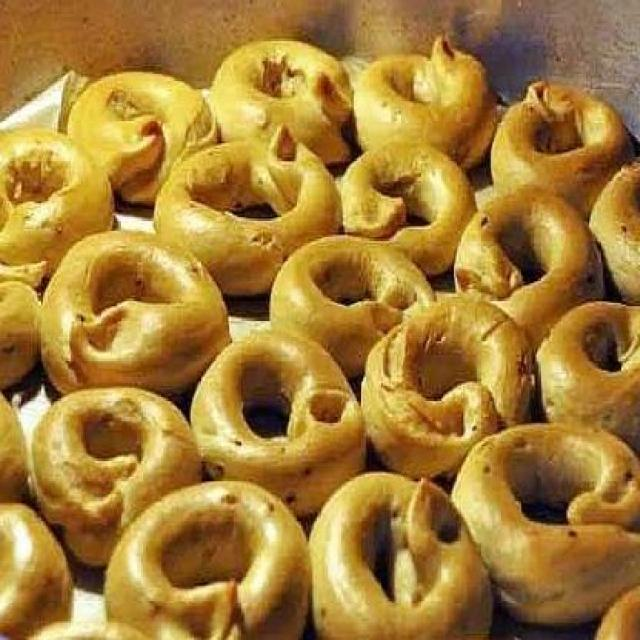Taralli: (4, 36, 636, 627)
